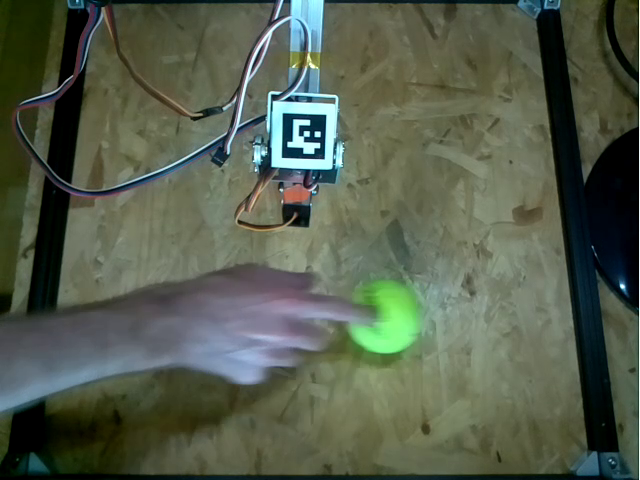tennis_ball: (349, 280, 423, 353)
